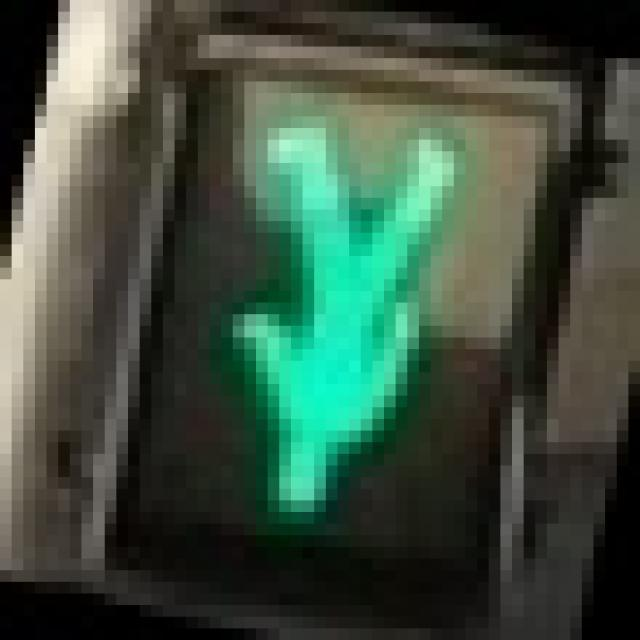geen-crossing: (140, 70, 466, 536)
